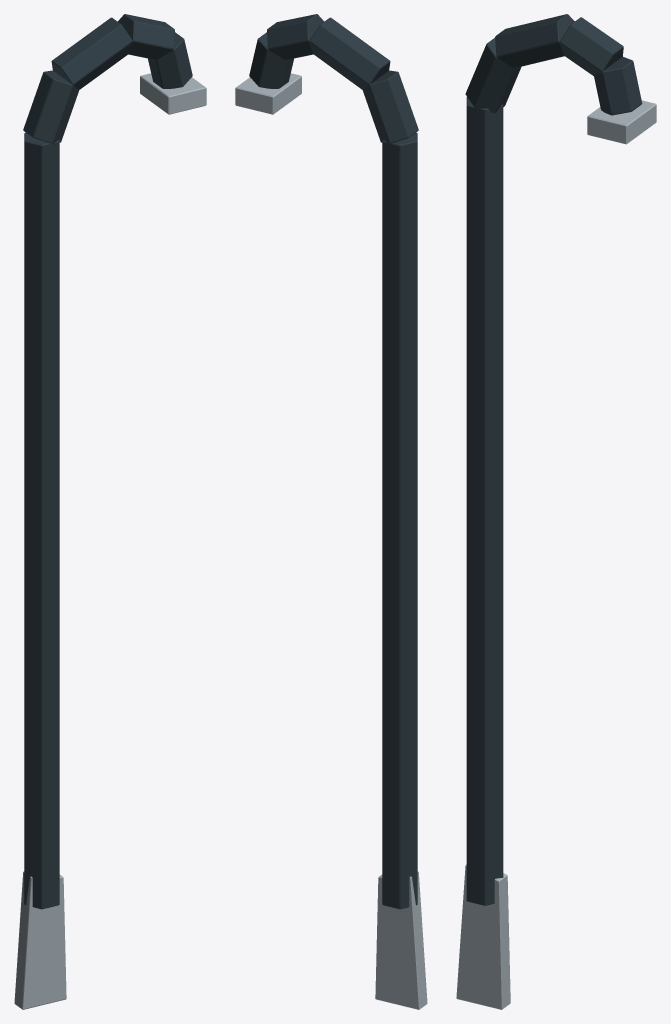
The model's file is b06_crowbar.glb.
3 views of the same model, side by side, from view 1: azimuth 30°, elevation 25°; view 2: azimuth 150°, elevation 25°; view 3: azimuth 330°, elevation 25° (orthographic). The views are drawn at different scales.
Visible parts, largest first — view 1: b06_crowbar; view 2: b06_crowbar; view 3: b06_crowbar.
Boxes of the visible parts, box(x1,y1,x2,y2) form: b06_crowbar: box(14, 14, 206, 1009); b06_crowbar: box(235, 14, 427, 1009); b06_crowbar: box(456, 14, 656, 1009).
Bounding box in the file's own units: 0.118 × 0.6234 × 0.034.
